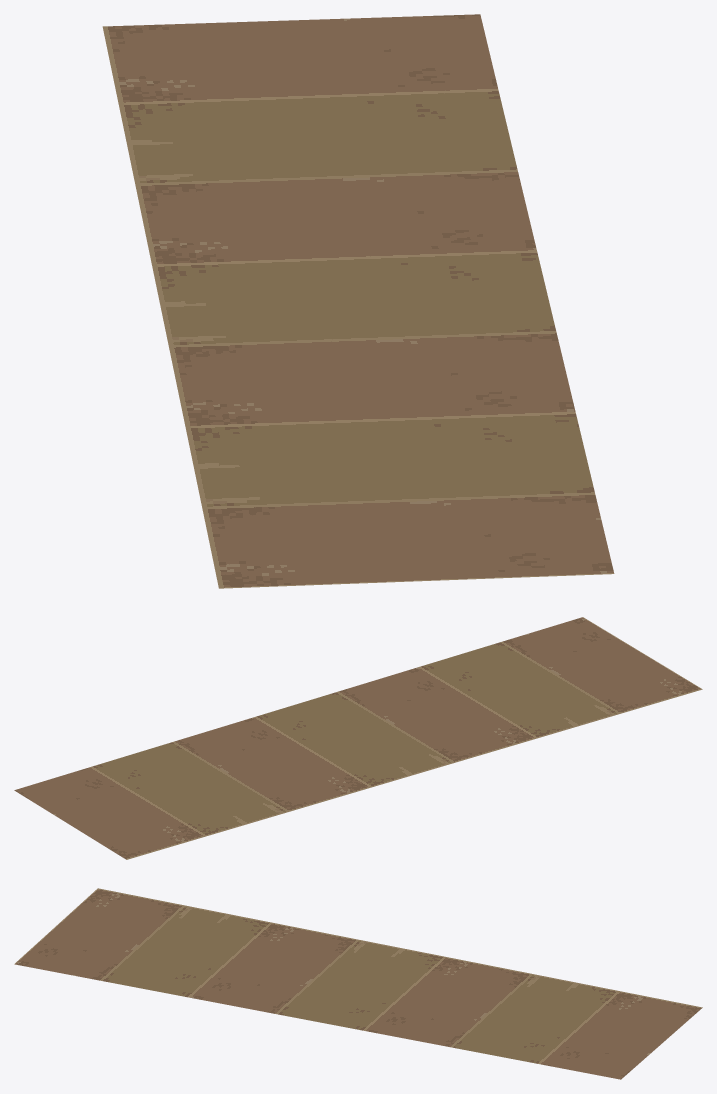
The model's file is kd_stage_13612f_4_57.glb.
The picture shows the model from 3 angles, top to bottom: view 1: azimuth 30°, elevation 25°; view 2: azimuth 150°, elevation 25°; view 3: azimuth 270°, elevation 25°; orthographic projection. The views are drawn at different scales.
Parts seen in each view (by area): view 1: kd_stage_13612f_4_57; view 2: kd_stage_13612f_4_57; view 3: kd_stage_13612f_4_57.
Boxes of the visible parts, left/top/right/bottom form: kd_stage_13612f_4_57: left=102, top=14, right=614, bottom=588; kd_stage_13612f_4_57: left=14, top=617, right=702, bottom=859; kd_stage_13612f_4_57: left=14, top=888, right=702, bottom=1079.
Bounding box in the file's own units: 8.97 × 7.15e-07 × 13.65.
1 material, 1 textured.
